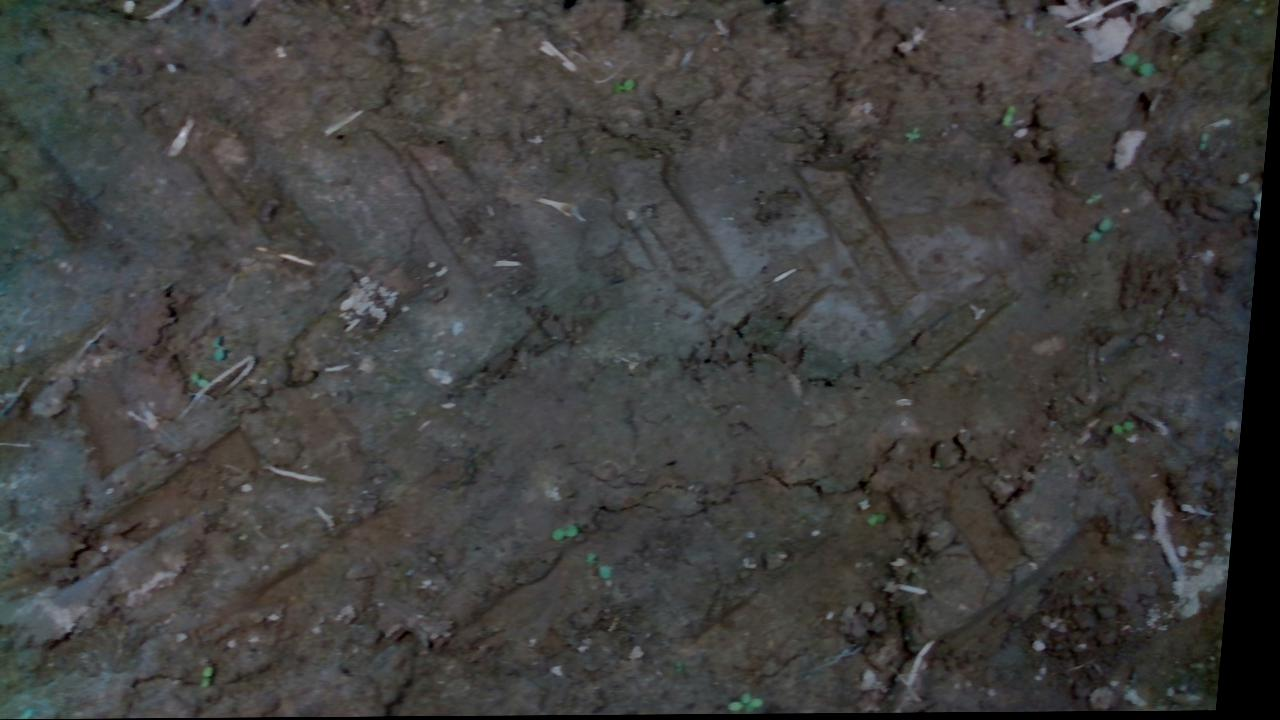weed: (1117, 52, 1158, 79), (1086, 218, 1116, 245), (740, 692, 777, 712), (559, 522, 588, 543), (216, 333, 234, 362), (210, 663, 226, 689), (1001, 104, 1018, 127), (1118, 420, 1142, 436), (906, 126, 924, 145), (1199, 133, 1212, 154), (1087, 193, 1106, 205)
